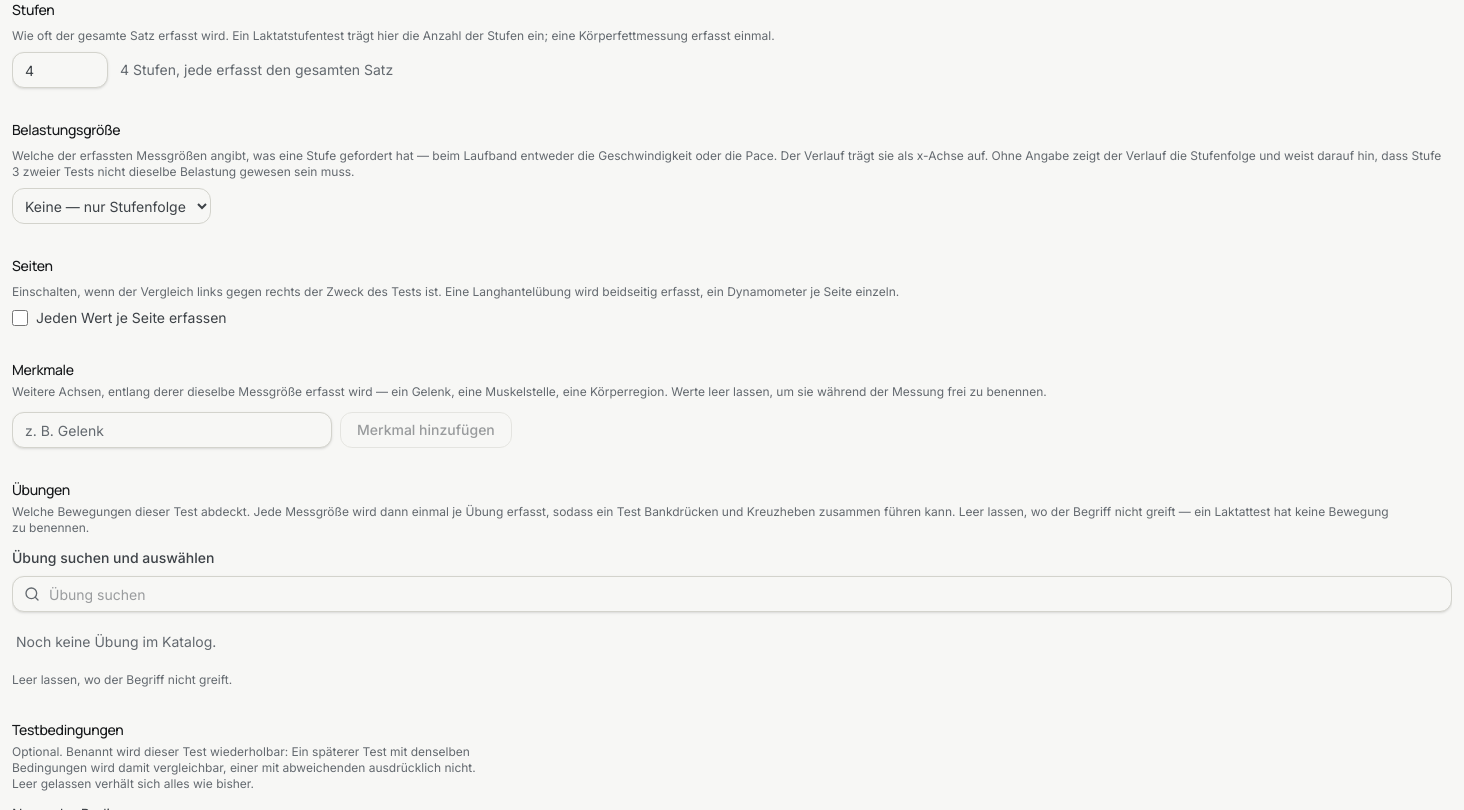
naming the load quantity › offers speed once the coach swapped to it
Select "Speed (km/h)" in the dropdown named "Belastungsgröße" at coordinates (112, 206), box [12,188,211,224]
(page scrolled)
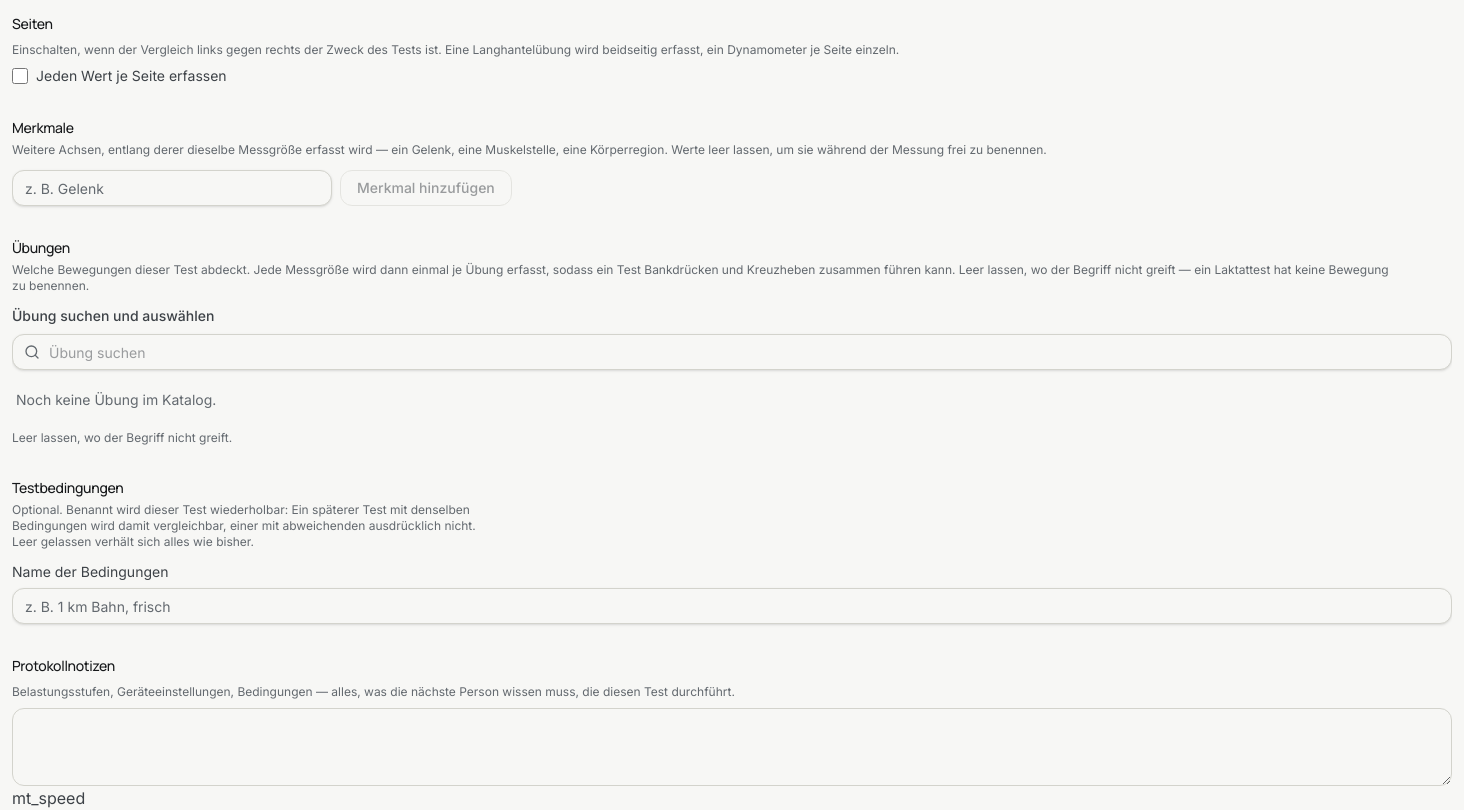
Expected: the text with test id "load" reads "mt_speed", [12,788,85,808]
